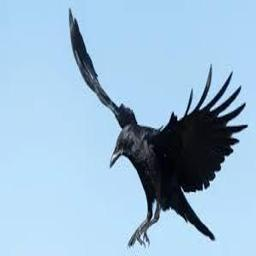Crow: (68, 8, 248, 250)
